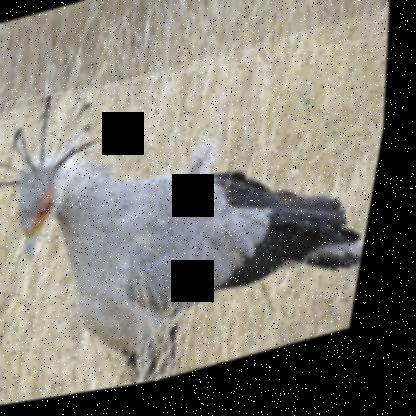Sagittarius serpentarius: (0, 18, 406, 415)
